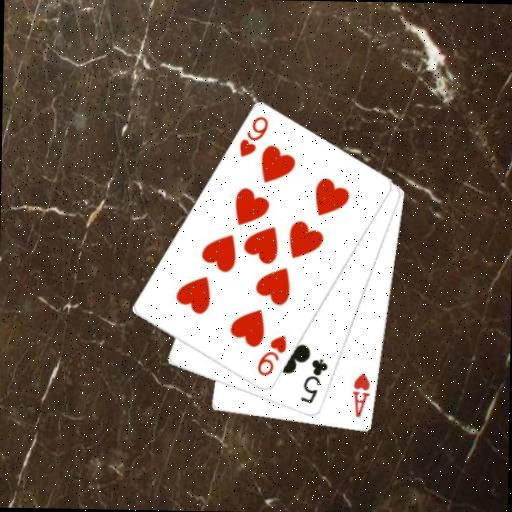5C: (298, 355, 330, 406)
9H: (254, 332, 289, 379), (236, 113, 271, 160)
AH: (348, 371, 372, 420)
